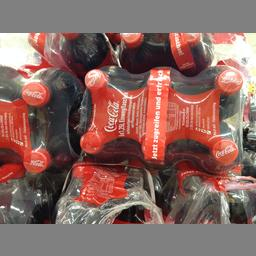soda: (76, 62, 242, 168), (0, 63, 74, 175)
